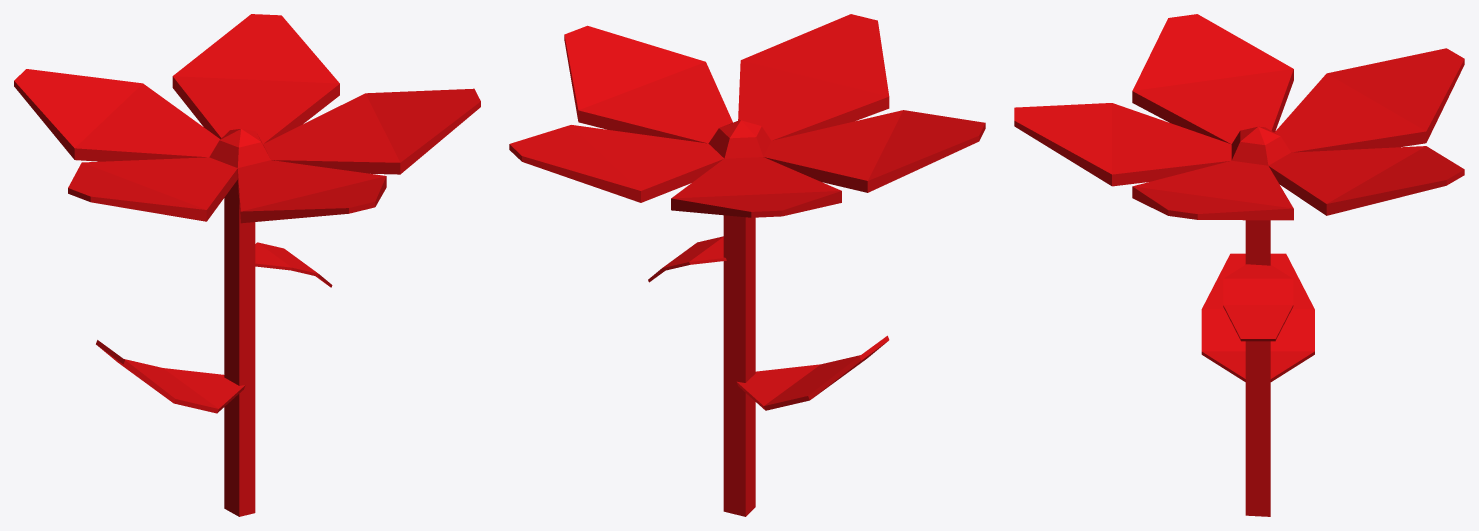
File: Flower_1_Snow.glb
The picture shows the model from 3 angles, left to right: view 1: azimuth 30°, elevation 25°; view 2: azimuth 150°, elevation 25°; view 3: azimuth 270°, elevation 25°; orthographic projection. The views are drawn at different scales.
Parts seen in each view (by area): view 1: Flower_1_Snow.001; view 2: Flower_1_Snow.001; view 3: Flower_1_Snow.001.
Boxes of the visible parts, x1=… form: Flower_1_Snow.001: x1=14, y1=14, x2=480, y2=516; Flower_1_Snow.001: x1=509, y1=14, x2=985, y2=516; Flower_1_Snow.001: x1=1014, y1=14, x2=1464, y2=516.
Size of the model in its own units: 0.712 by 0.6595 by 0.6771.
